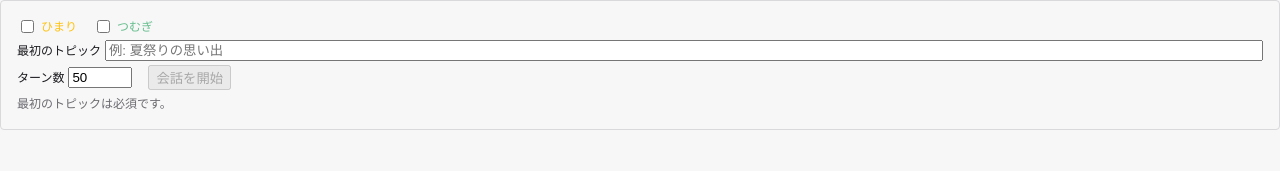
Scenario: SessionStartForm › セッション作成後にrun APIが失敗した場合、作成済みセッションidを含むエラーを表示する
Click the text "ひまり": point(59, 27) [41, 17, 77, 36]
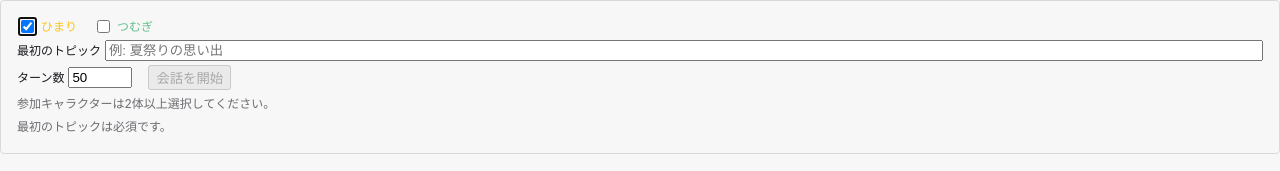
Click the text "つむぎ": point(135, 27) [117, 17, 153, 36]
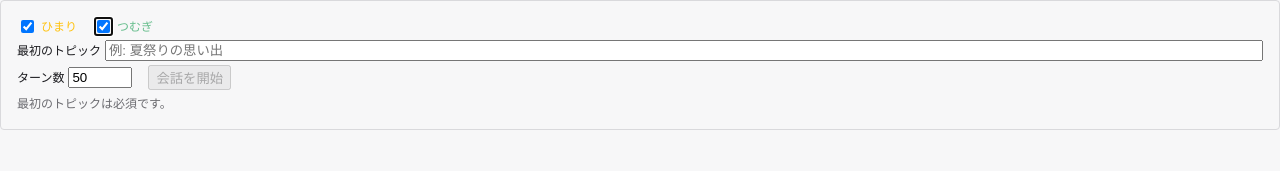
In the field labelled "最初のトピック": point(684, 51) [105, 40, 1263, 61], type "夏祭りの思い出"
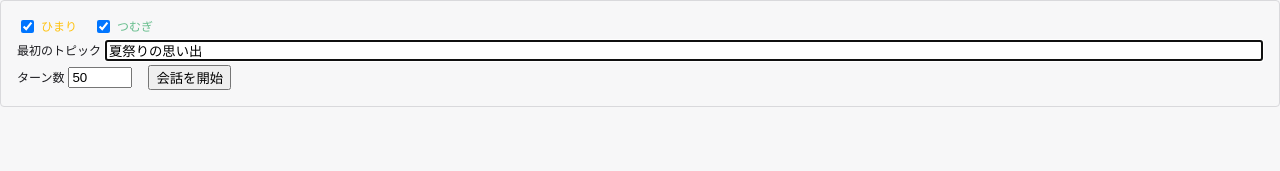
Click the button "会話を開始": point(190, 78) [148, 65, 231, 90]
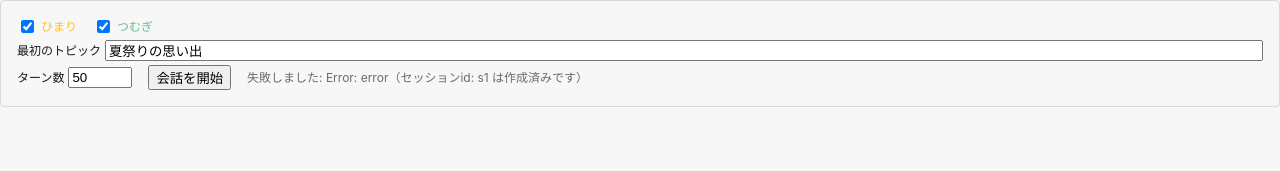
Check: the text "失敗しました: Error: error（セッションid: s1 は作成済みです）" is shown, box [247, 68, 588, 87]
